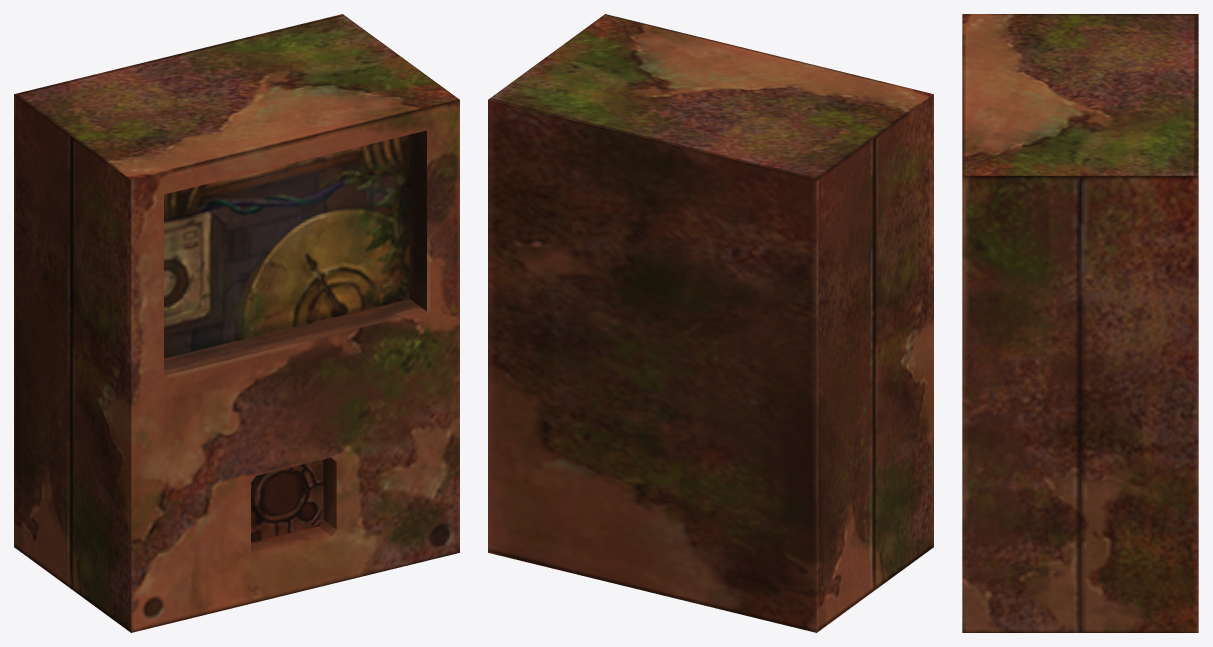
Rendered from Pr3_Charger_HA160912.fbx.
The picture shows the model from 3 angles, left to right: view 1: azimuth 30°, elevation 25°; view 2: azimuth 150°, elevation 25°; view 3: azimuth 270°, elevation 25°; orthographic projection.
Parts seen in each view (by area): view 1: polySurface6; view 2: polySurface6; view 3: polySurface6.
Boxes of the visible parts, bbox=[...] form: polySurface6: bbox=[14, 14, 459, 632]; polySurface6: bbox=[488, 14, 933, 632]; polySurface6: bbox=[962, 14, 1198, 632].
Bounding box in the file's own units: 2.43 × 3.2 × 1.5.
